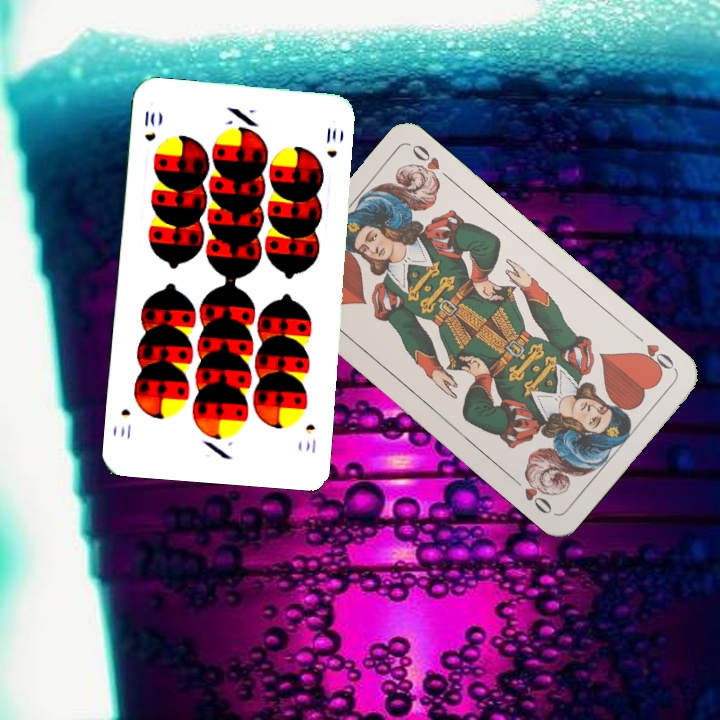HO: (629, 328, 679, 377)
S10: (140, 106, 158, 144), (301, 420, 319, 456)
